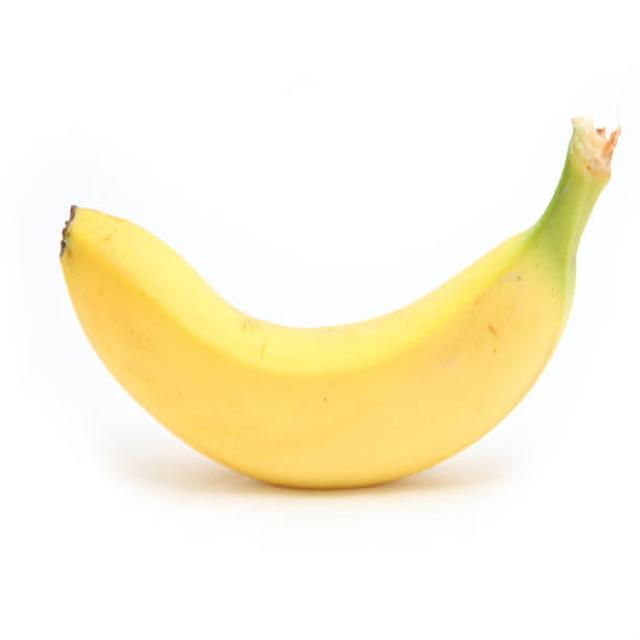banana: (57, 115, 615, 502)
